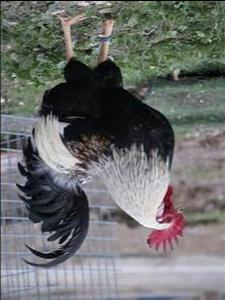hen: (16, 12, 187, 269)
